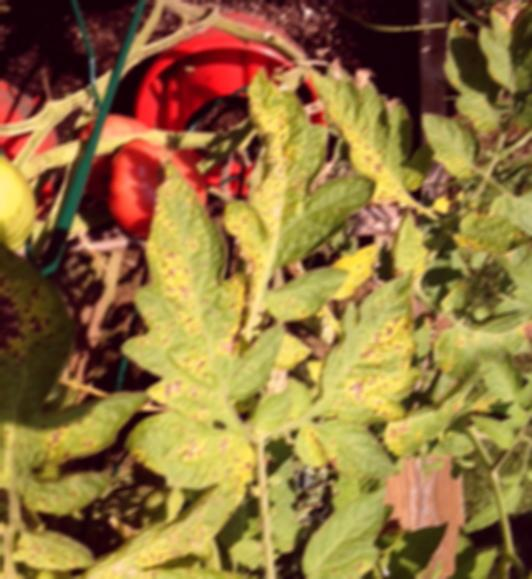Tomato Septoria leaf spot: (124, 169, 295, 494), (0, 226, 111, 529), (213, 95, 365, 284), (303, 51, 455, 209), (51, 492, 240, 579), (322, 275, 424, 426), (447, 206, 532, 265)
